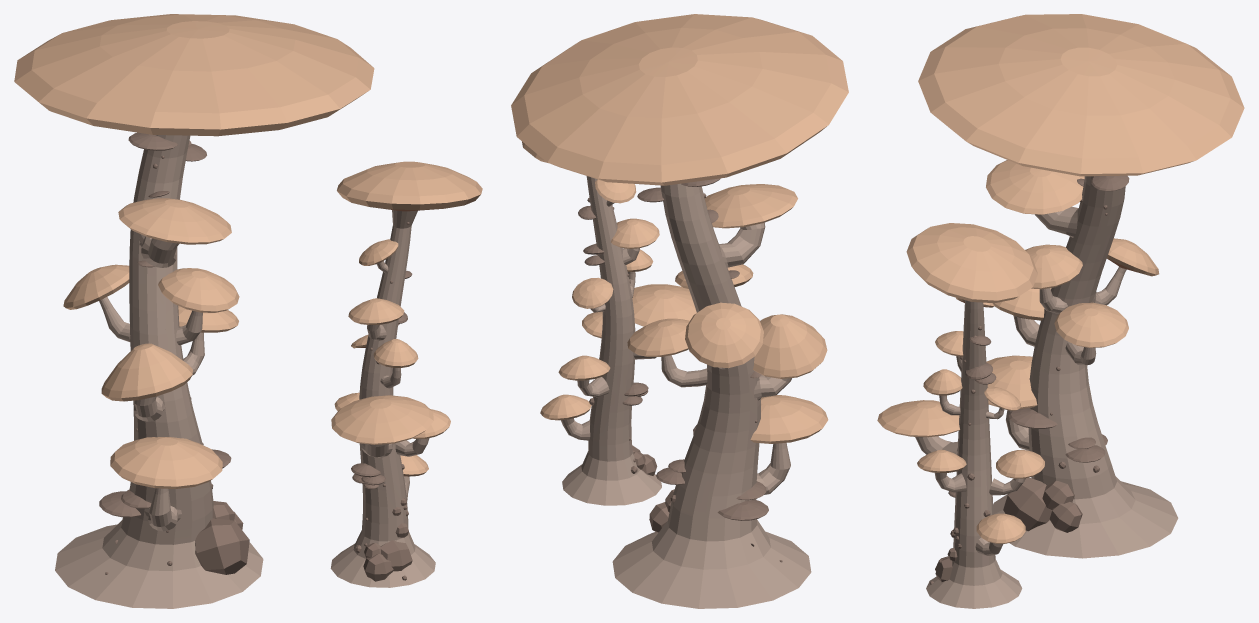
The model's file is mushroomtree07.glb.
3 views of the same model, side by side, from view 1: azimuth 30°, elevation 25°; view 2: azimuth 150°, elevation 25°; view 3: azimuth 270°, elevation 25° (orthographic). The views are drawn at different scales.
Visible parts, largest first — view 1: Cylinder.020, Cylinder.004; view 2: Cylinder.020, Cylinder.004; view 3: Cylinder.020, Cylinder.004.
Part boxes in pixels (x1=…): Cylinder.020: x1=14, y1=14, x2=374, y2=608; Cylinder.004: x1=330, y1=161, x2=482, y2=587; Cylinder.020: x1=511, y1=14, x2=848, y2=608; Cylinder.004: x1=522, y1=141, x2=696, y2=505; Cylinder.020: x1=918, y1=14, x2=1244, y2=558; Cylinder.004: x1=877, y1=223, x2=1044, y2=608.
Bounding box in the file's own units: 31.31 × 42.05 × 29.19.
Materials: 1 (1 with a texture image).
